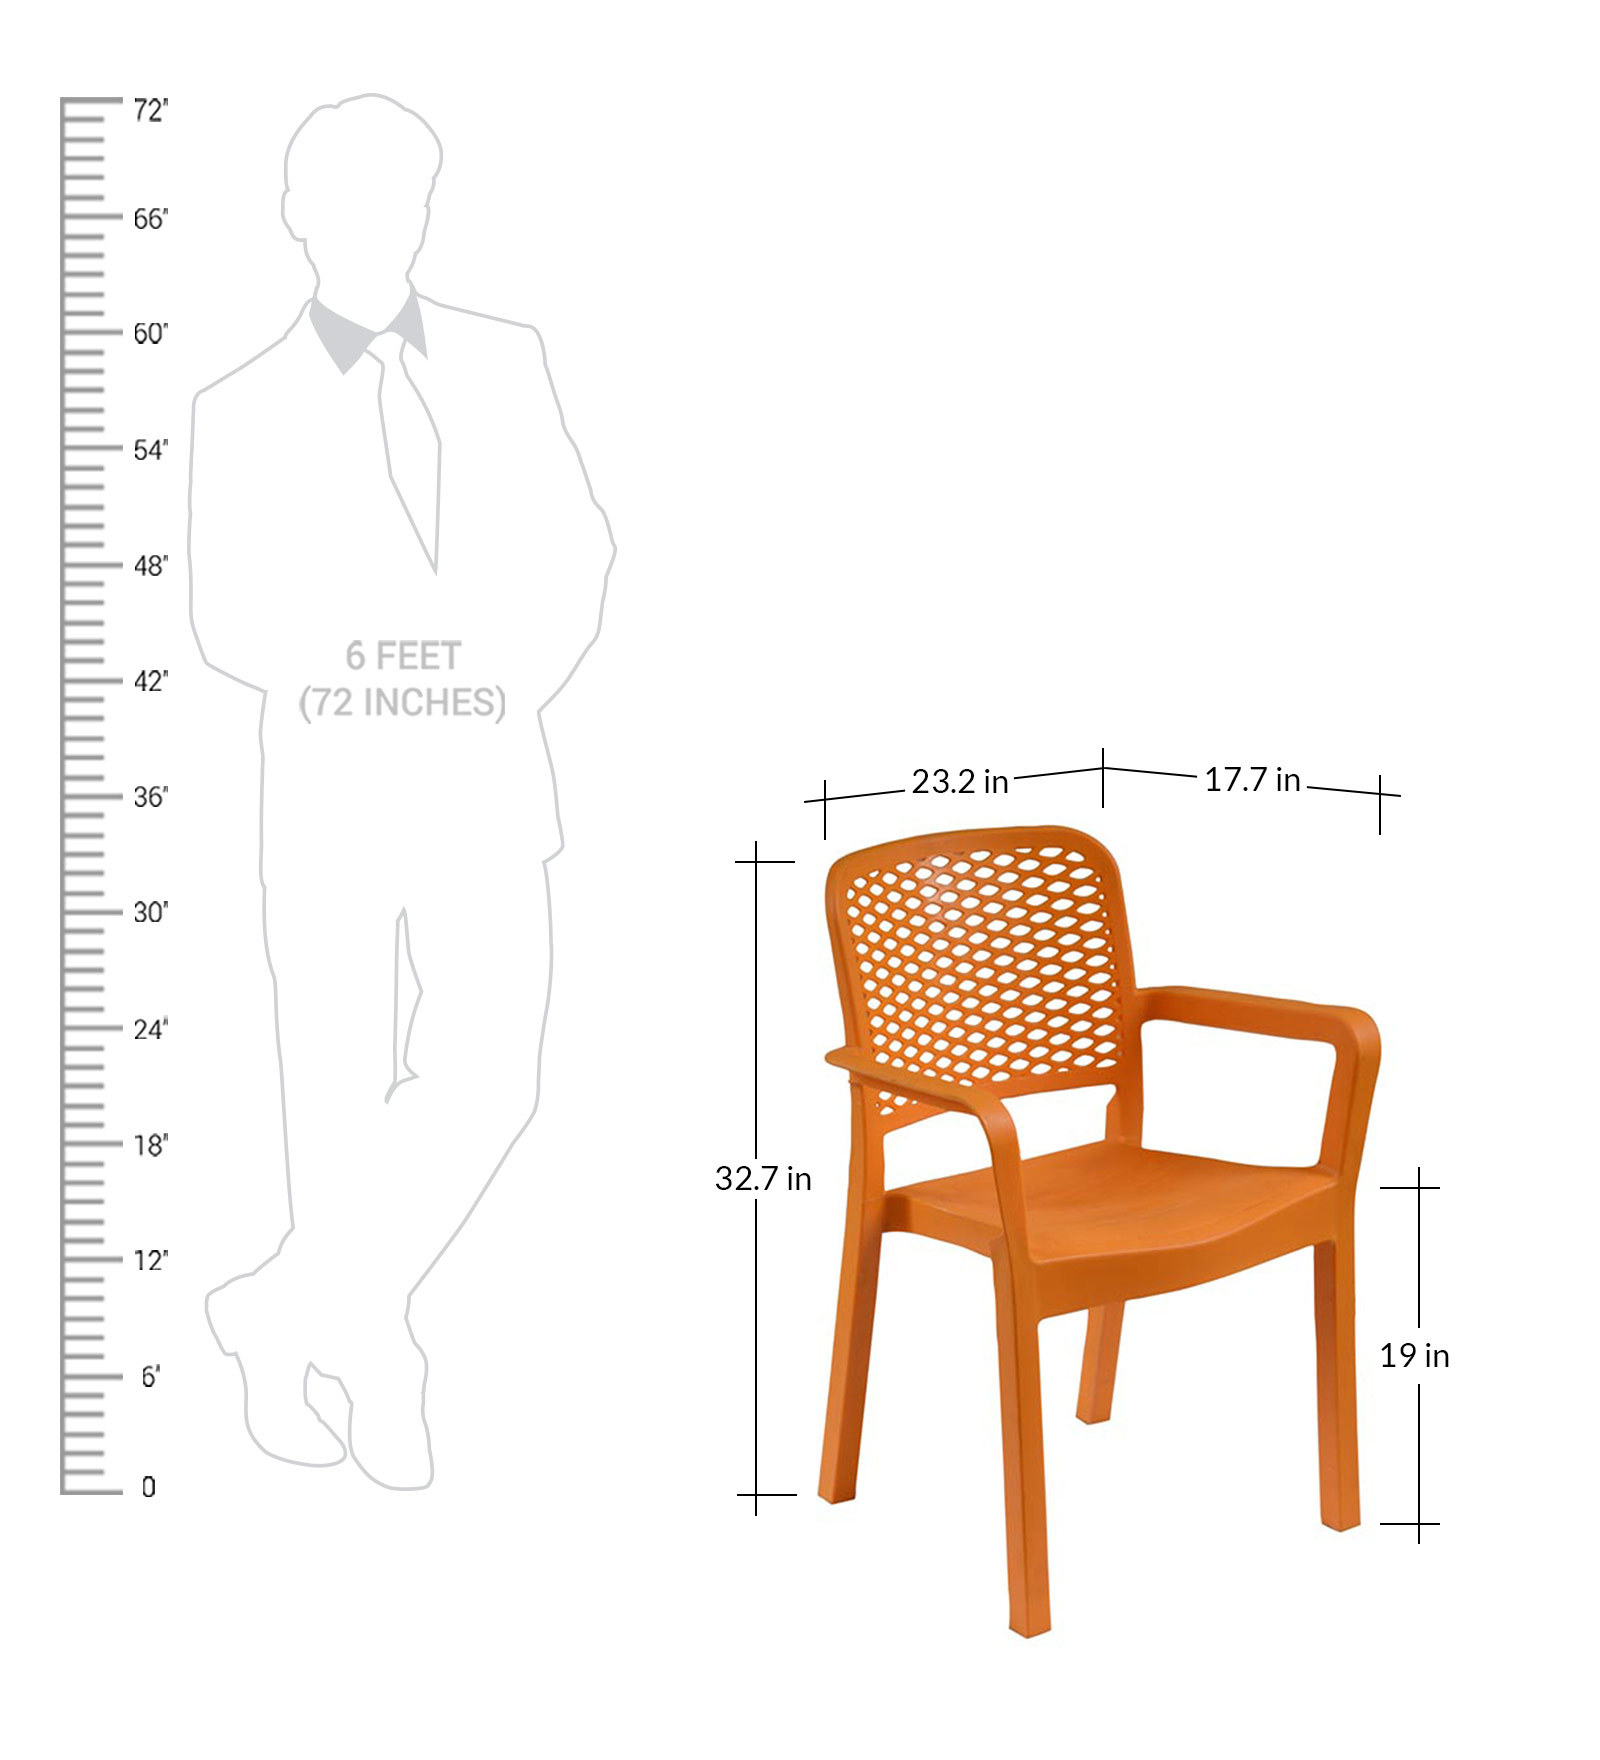Luxury Plastic Chair in Orange Colour by Italica Furniture: (809, 823, 1378, 1627)
